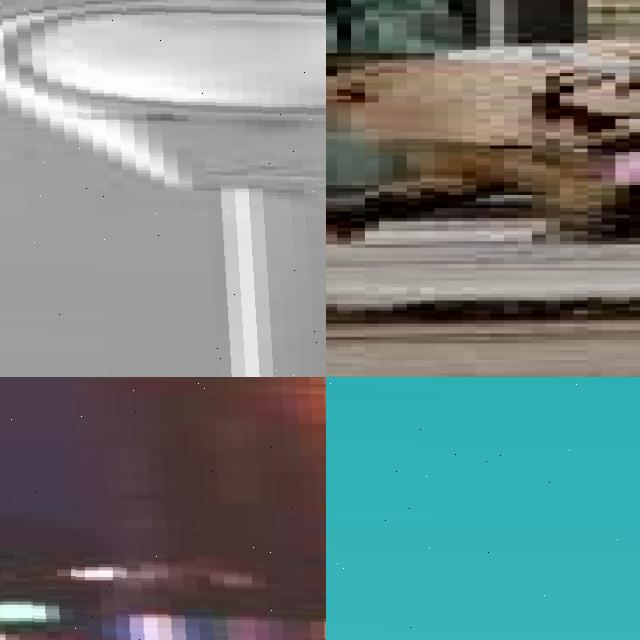street light: (0, 0, 326, 377), (0, 377, 326, 640), (326, 377, 640, 640)
